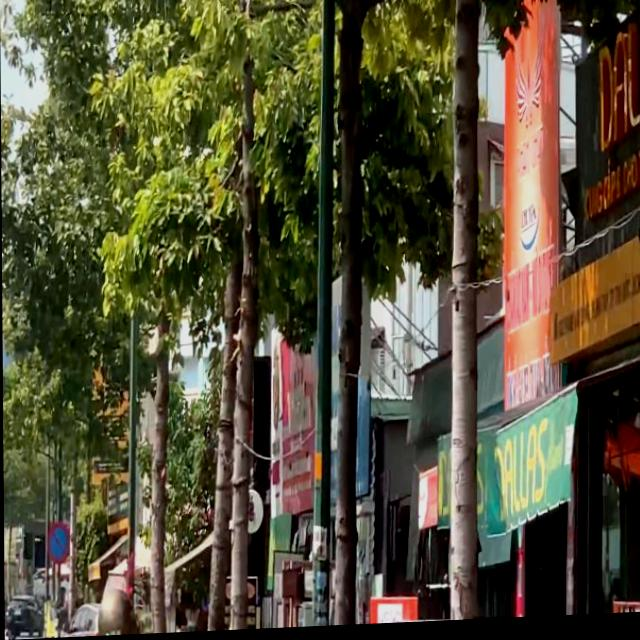Cam do xe: (47, 522, 69, 565)
